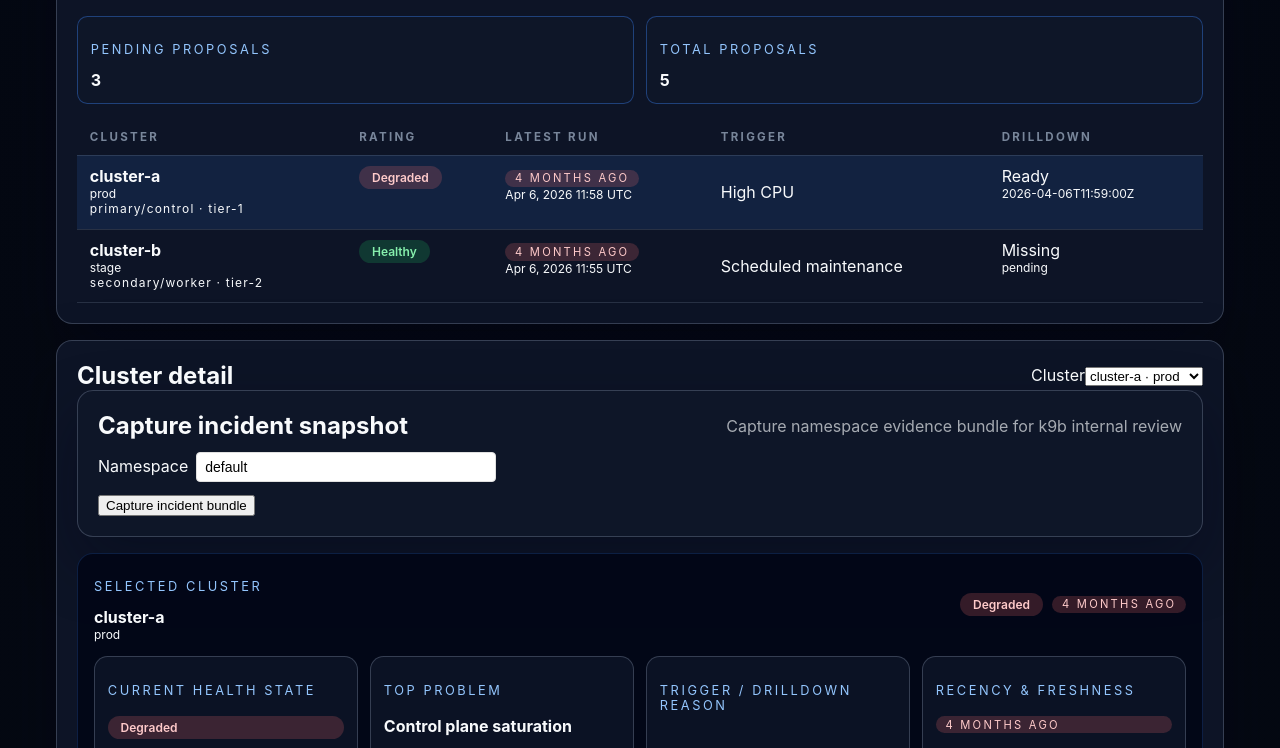
it: Alertmanager cluster switching regression › Scenario F: Proof of no bleed-through for all data dimensions › cross-cluster severity/state counts do not bleed through
(page scrolled)
Note: Switch to cluster-b
Select "cluster-b · stage" in the dropdown labelled "Cluster" at point(1144, 377), box [1085,367,1203,386]
(page scrolled)
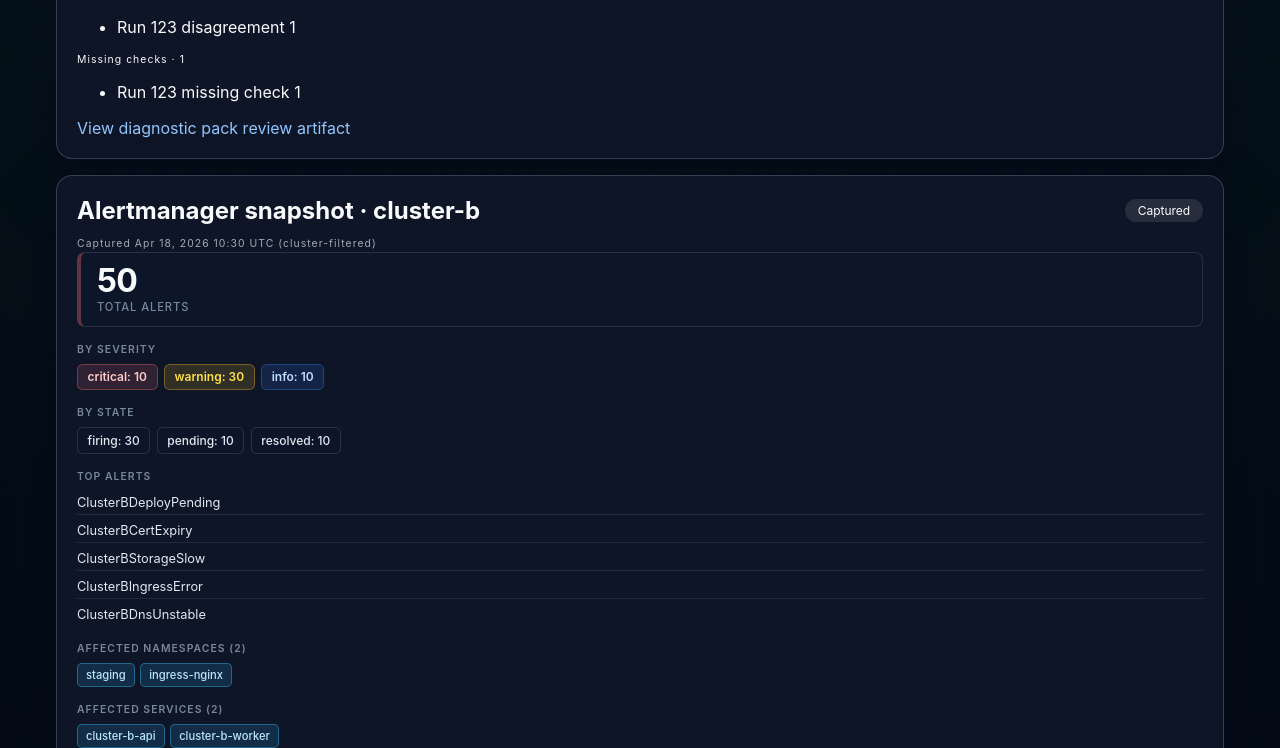
Now the text "50" is shown, box [97,265,137,297]
Now the text "critical: 10" is shown, box [77,364,158,390]
